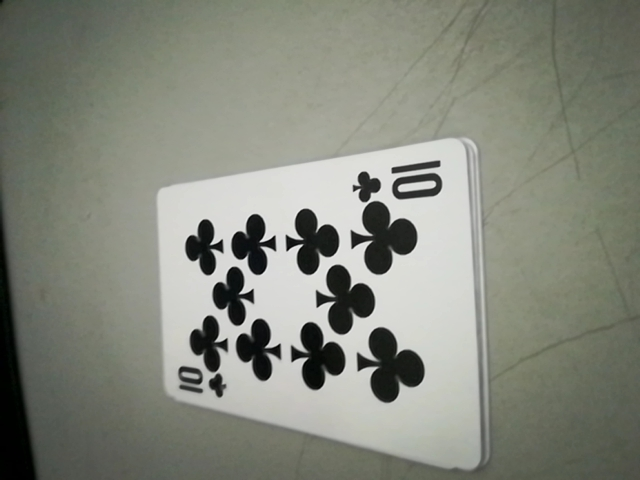mh 10: (350, 155, 457, 206), (169, 365, 229, 404)
